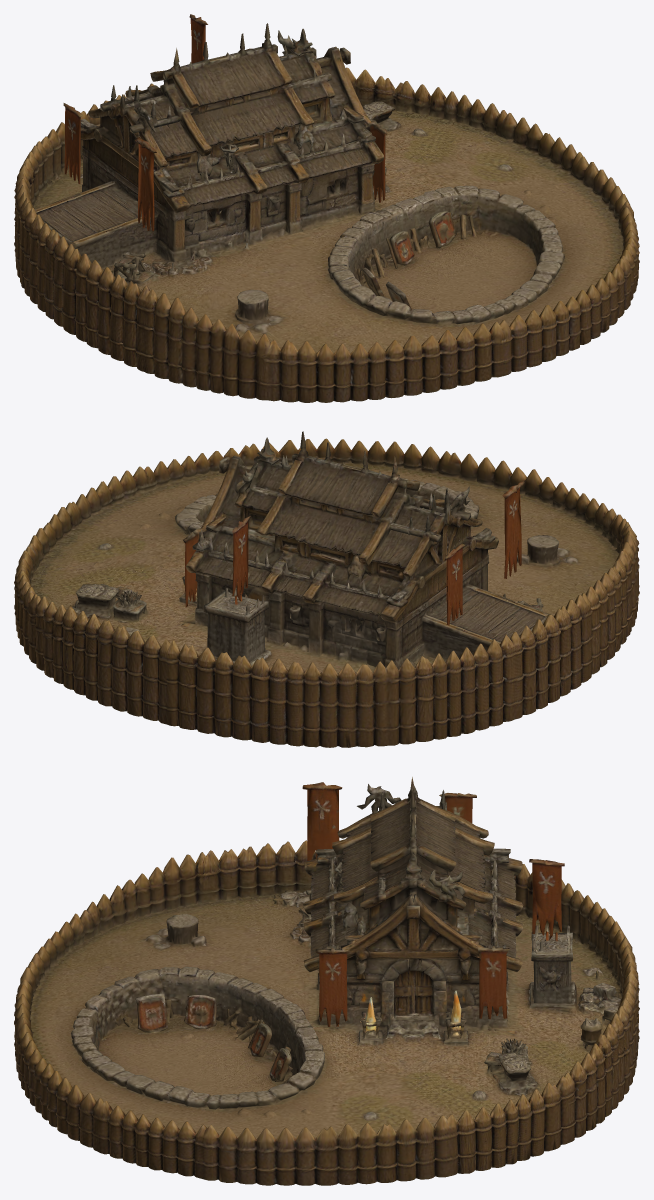
The model's file is tripo_convert_954d3443-b2df-49b1-b51a-fa755e381219.fbx.
3 views of the same model, one above another, from view 1: azimuth 30°, elevation 25°; view 2: azimuth 150°, elevation 25°; view 3: azimuth 270°, elevation 25° (orthographic). The views are drawn at different scales.
Visible parts, largest first — view 1: tripo_node_954d3443; view 2: tripo_node_954d3443; view 3: tripo_node_954d3443.
Boxes of the visible parts, x1=… form: tripo_node_954d3443: x1=14, y1=14, x2=639, y2=402; tripo_node_954d3443: x1=14, y1=431, x2=639, y2=747; tripo_node_954d3443: x1=14, y1=777, x2=639, y2=1185.
Bounding box in the file's own units: 0.9718 × 0.3956 × 0.9803.
Materials: 1 (1 with a texture image).
